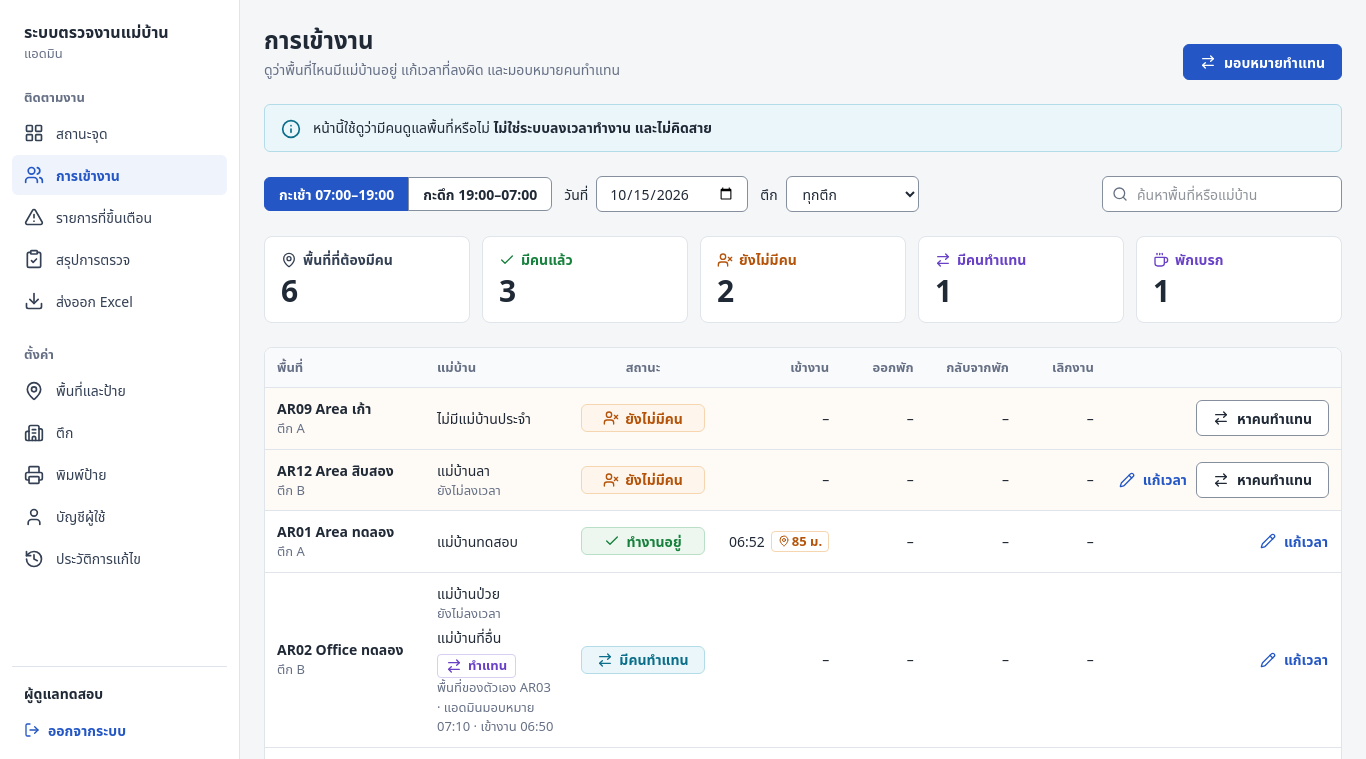
Test case: attendance corrections (D2, facility-0051) › adds a missing Shift-In with a reason, then asks for the board again
Click the button with aria-label "แก้เวลา แม่บ้านลา": [1153, 480] box [1118,462,1188,498]
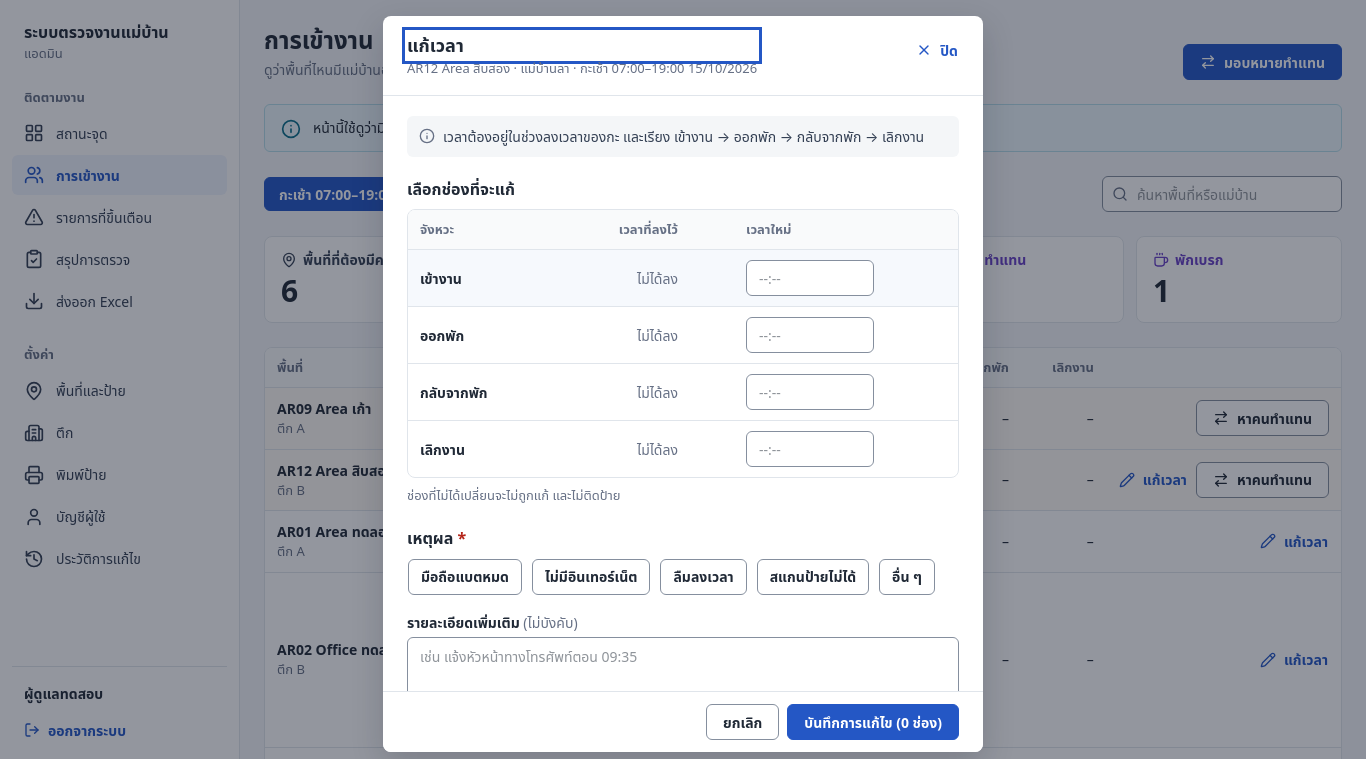
expect the text "AR12 Area สิบสอง · แม่บ้านลา · กะเช้า 07:00–19:00 15/10/2026" is shown: met, box [407,59,757,78]
In the field named "เวลาใหม่ เข้างาน": [810, 278] box [746,260,874,296], type "07:05"
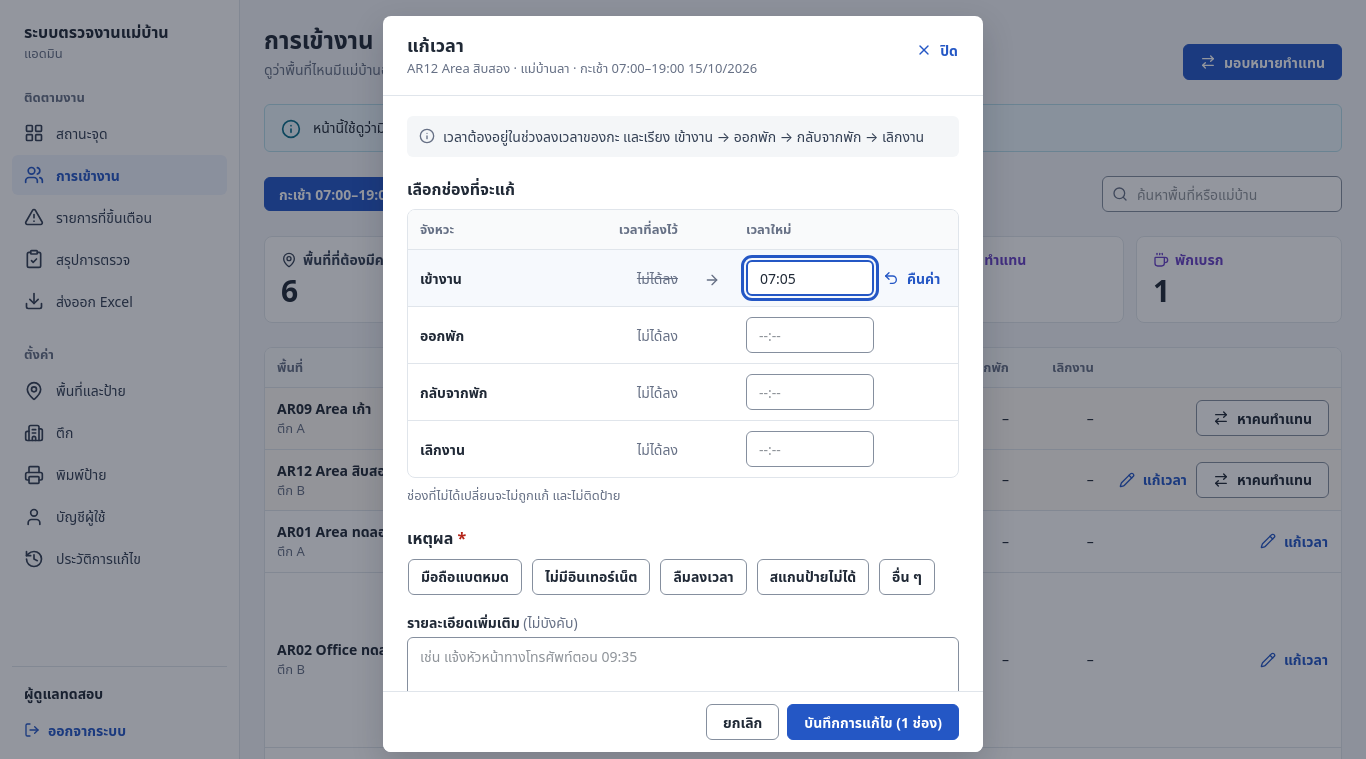
Click the radio button labelled "มือถือแบตหมด": [465, 576] box [408,558,522,594]
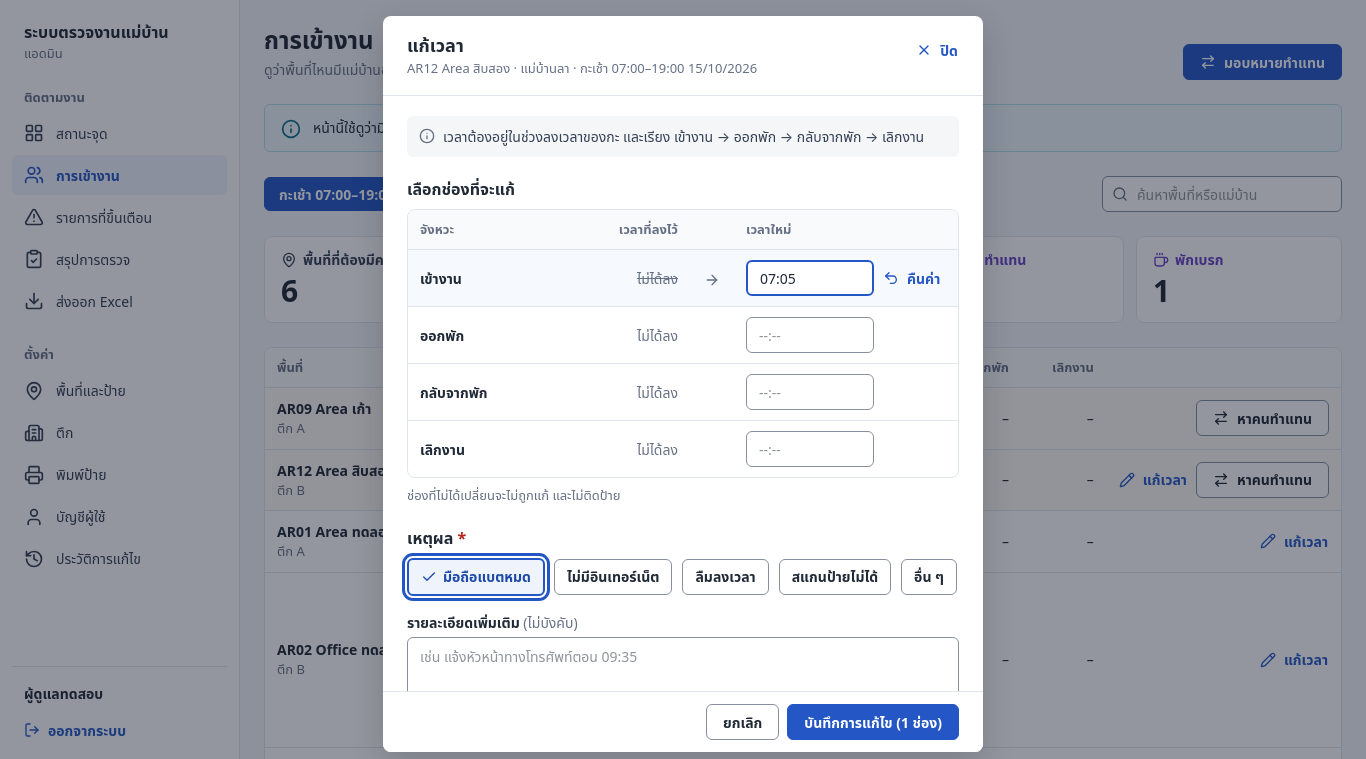
In the text box labelled "รายละเอียดเพิ่มเติม (ไม่บังคับ)": [683, 676] box [407,636,959,716], type "หัวหน้ายืนยัน"
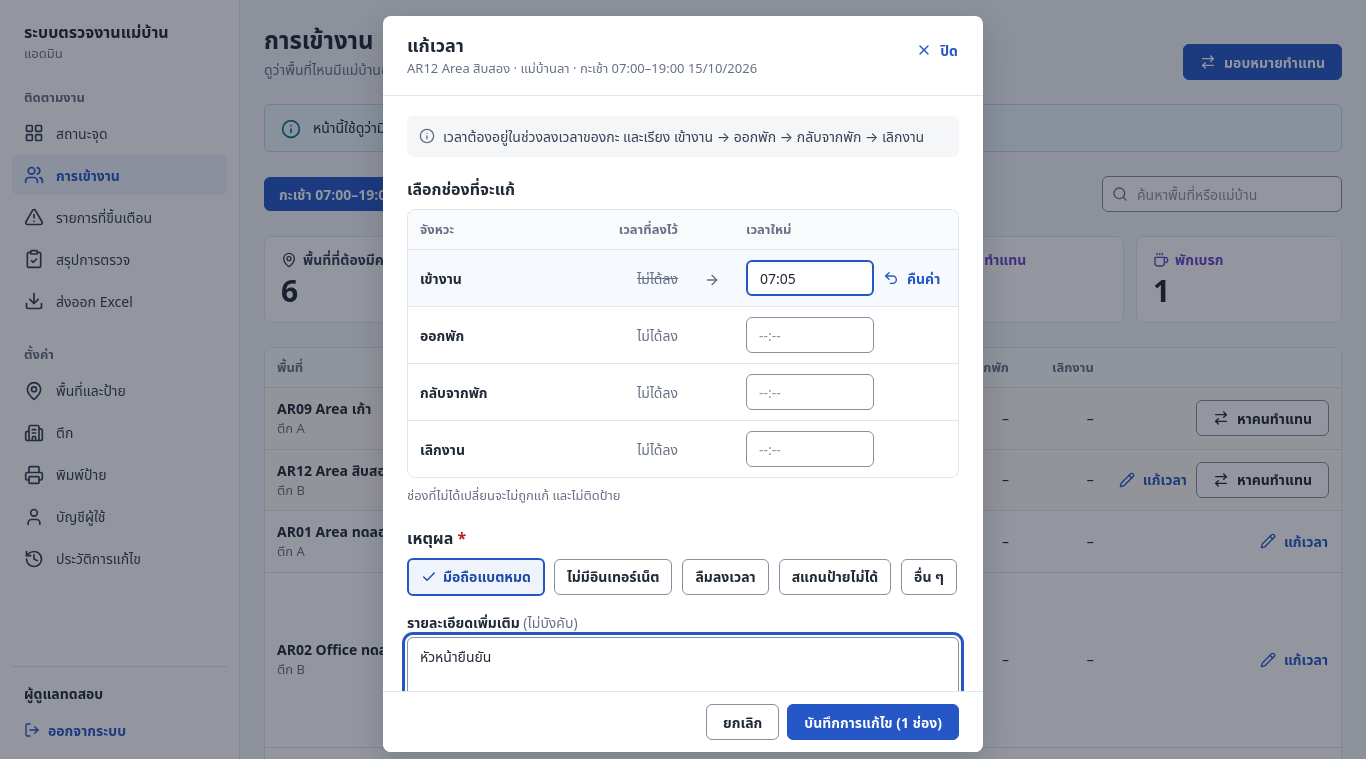
Click the button "บันทึกการแก้ไข (1 ช่อง)": [873, 722] box [787,704,959,740]
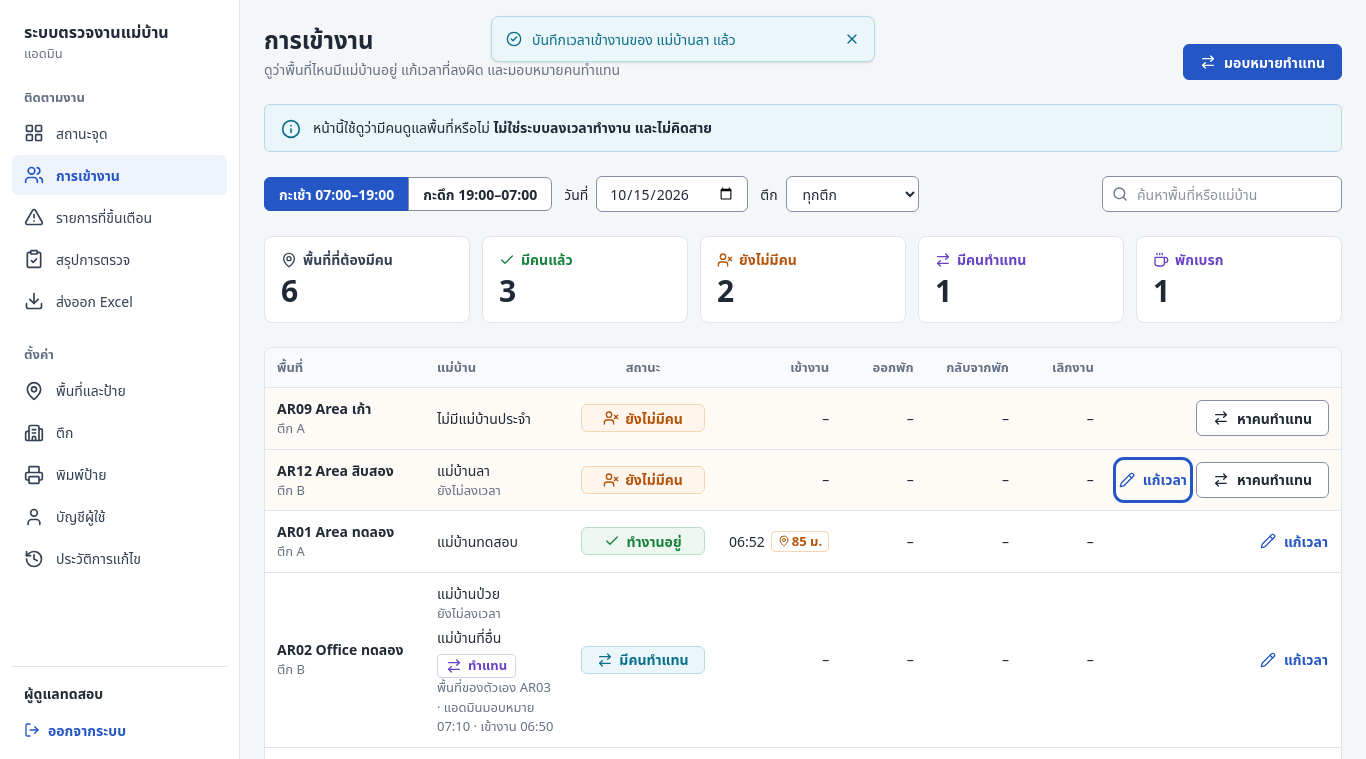
expect the text "บันทึกเวลาเข้างานของ แม่บ้านลา แล้ว" is shown: met, box [532,30,736,48]
expect the dialog is gone: met
